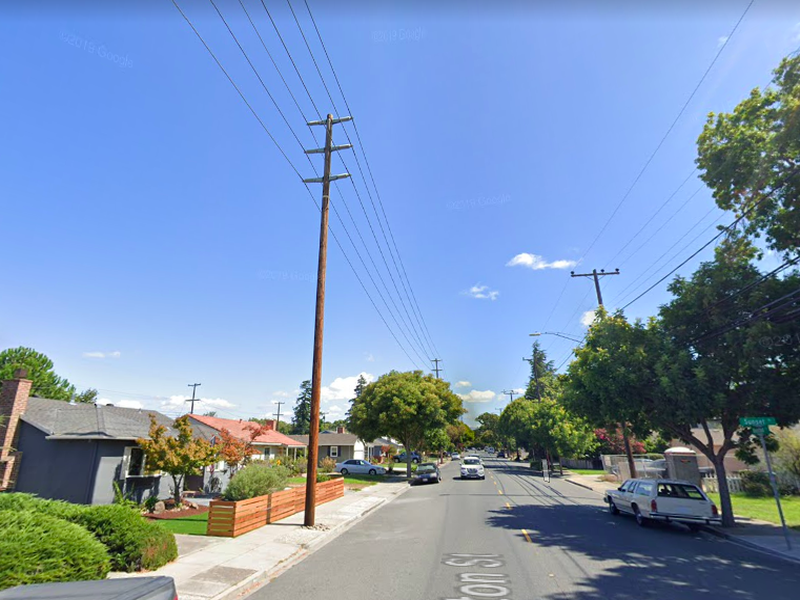tree: (554, 261, 800, 526)
utility_pole: (296, 104, 358, 198), (566, 262, 624, 297)
